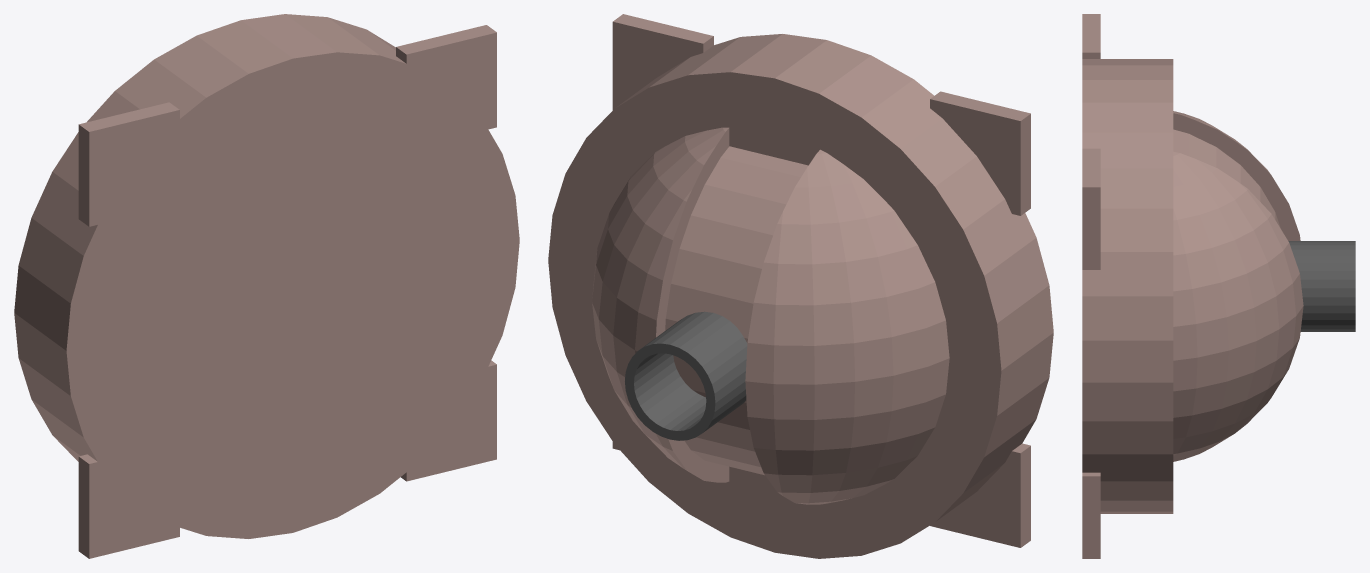
Rendered from Turret2.glb.
The picture shows the model from 3 angles, left to right: view 1: azimuth 30°, elevation 25°; view 2: azimuth 150°, elevation 25°; view 3: azimuth 270°, elevation 25°; orthographic projection. The views are drawn at different scales.
Parts seen in each view (by area): view 1: Turret; view 2: Turret; view 3: Turret.
Boxes of the visible parts, x1=… form: Turret: x1=14, y1=14, x2=519, y2=558; Turret: x1=548, y1=14, x2=1053, y2=558; Turret: x1=1082, y1=14, x2=1355, y2=558.
Size of the model in its own units: 2 by 2 by 1.2.
